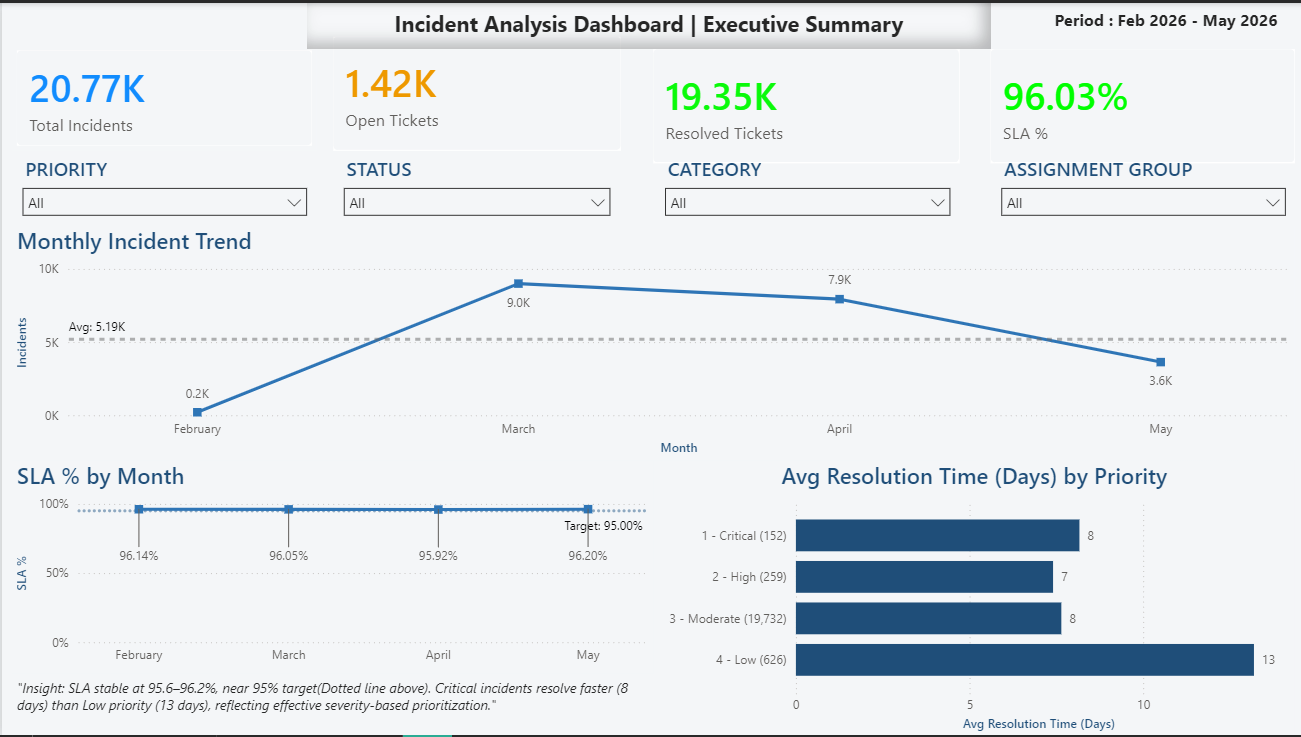

The page's visual inventory and layout, read from the dashboard file:
{"tool":"powerbi","page":{"name":"Executive Summary ","canvas":[1280,720],"ordinal":0},"visuals":[{"type":"cardVisual","fields":{"Data":["VW_INCIDENT_ANALYTICS.Total Incidents"]},"box":[9.8,41.7,299.4,103.1],"z":0},{"type":"cardVisual","fields":{"Data":["VW_INCIDENT_ANALYTICS.Open Tickets"]},"box":[325.2,33.1,282.2,111.7],"z":1000},{"type":"cardVisual","fields":{"Data":["VW_INCIDENT_ANALYTICS.Resolved Tickets"]},"box":[639.3,45.4,300.6,111.7],"z":2000},{"type":"cardVisual","fields":{"Data":["VW_INCIDENT_ANALYTICS.SLA %"]},"box":[970.6,45.4,298.2,111.7],"z":3000},{"type":"lineChart","title":"Monthly Incident Trend","fields":{"Y":["CountNonNull(VW_INCIDENT_ANALYTICS.INCIDENT_NUMBER)"],"Category":["VW_INCIDENT_ANALYTICS.OPENED_AT.Variation.Date Hierarchy.Month"]},"box":[9.8,218.4,1258.9,230.7],"z":4000},{"type":"clusteredBarChart","title":"Avg Resolution Time (Days) by Priority","fields":{"Y":["VW_INCIDENT_ANALYTICS.Avg Resolution Time"],"Category":["VW_INCIDENT_ANALYTICS.Priority_With_Count"]},"box":[640.5,449.1,628.2,271.2],"z":5000},{"type":"slicer","fields":{"Values":["VW_INCIDENT_ANALYTICS.PRIORITY"]},"box":[9.8,144.8,299.4,73.6],"z":6000},{"type":"slicer","fields":{"Values":["VW_INCIDENT_ANALYTICS.STATUS"]},"box":[325.2,144.8,282.2,73.6],"z":7000},{"type":"slicer","fields":{"Values":["VW_INCIDENT_ANALYTICS.Category Updated"]},"box":[640.5,144.8,300.6,73.6],"z":8000},{"type":"slicer","fields":{"Values":["VW_INCIDENT_ANALYTICS.Assignment Group Updated"]},"box":[970.6,144.8,299.4,73.6],"z":9000},{"type":"textbox","box":[299.4,0,671.2,45.4],"z":10000},{"type":"textbox","box":[1028.2,0,240.5,41.7],"z":11000},{"type":"lineChart","fields":{"Category":["VW_INCIDENT_ANALYTICS.OPENED_AT.Variation.Date Hierarchy.Month"],"Y":["VW_INCIDENT_ANALYTICS.SLA %"]},"box":[9.8,449.1,629.5,208.6],"z":12000},{"type":"textbox","box":[9.8,657.7,629.5,62.6],"z":13000}]}

Visuals, with their boxes in screenshot pixels (x1, y1, x2, y2), scaled from the page's 1280x720 canvas onto the 1301x737 screenshot:
cardVisual - VW_INCIDENT_ANALYTICS.Total Incidents: select_region(10, 43, 314, 148)
cardVisual - VW_INCIDENT_ANALYTICS.Open Tickets: select_region(331, 34, 617, 148)
cardVisual - VW_INCIDENT_ANALYTICS.Resolved Tickets: select_region(650, 46, 955, 161)
cardVisual - VW_INCIDENT_ANALYTICS.SLA %: select_region(987, 46, 1290, 161)
"Monthly Incident Trend" lineChart: select_region(10, 224, 1290, 460)
"Avg Resolution Time (Days) by Priority" clusteredBarChart: select_region(651, 460, 1290, 736)
slicer - VW_INCIDENT_ANALYTICS.PRIORITY: select_region(10, 148, 314, 224)
slicer - VW_INCIDENT_ANALYTICS.STATUS: select_region(331, 148, 617, 224)
slicer - VW_INCIDENT_ANALYTICS.Category Updated: select_region(651, 148, 957, 224)
slicer - VW_INCIDENT_ANALYTICS.Assignment Group Updated: select_region(987, 148, 1291, 224)
textbox: select_region(304, 0, 987, 46)
textbox: select_region(1045, 0, 1290, 43)
lineChart - VW_INCIDENT_ANALYTICS.OPENED_AT.Variation.Date Hierarchy.Month x VW_INCIDENT_ANALYTICS.SLA %: select_region(10, 460, 650, 673)
textbox: select_region(10, 673, 650, 736)
